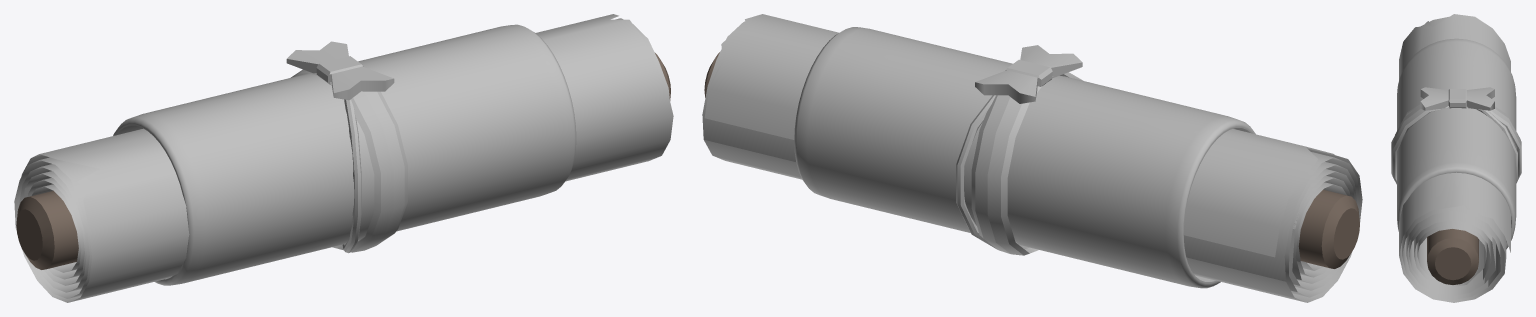
Rendered from Scroll_N.fbx.
3 renders of one model, left to right at view 1: azimuth 30°, elevation 25°; view 2: azimuth 150°, elevation 25°; view 3: azimuth 270°, elevation 25°, orthographic. The views are drawn at different scales.
Parts seen in each view (by area): view 1: pCylinder19, polySurface12, pTorus3, pCylinder9, pCube1; view 2: pCylinder19, polySurface12, pTorus3, pCylinder9, pCube1; view 3: pCylinder19, polySurface12, pCylinder9, pTorus3, pCube1.
Boxes of the visible parts, <box> form: pCylinder19: <box>113,24,576,285</box>; polySurface12: <box>14,14,673,302</box>; pTorus3: <box>291,69,407,253</box>; pCylinder9: <box>16,53,670,269</box>; pCube1: <box>286,41,394,100</box>; pCylinder19: <box>794,27,1255,288</box>; polySurface12: <box>702,14,1362,302</box>; pTorus3: <box>956,72,1083,255</box>; pCylinder9: <box>704,52,1359,268</box>; pCube1: <box>975,45,1082,103</box>; pCylinder19: <box>1397,38,1516,249</box>; polySurface12: <box>1399,14,1510,302</box>; pCylinder9: <box>1427,229,1478,284</box>; pTorus3: <box>1391,104,1521,184</box>; pCube1: <box>1420,87,1494,110</box>.
Bounding box in the file's own units: 9.79 × 2.68 × 2.55.
